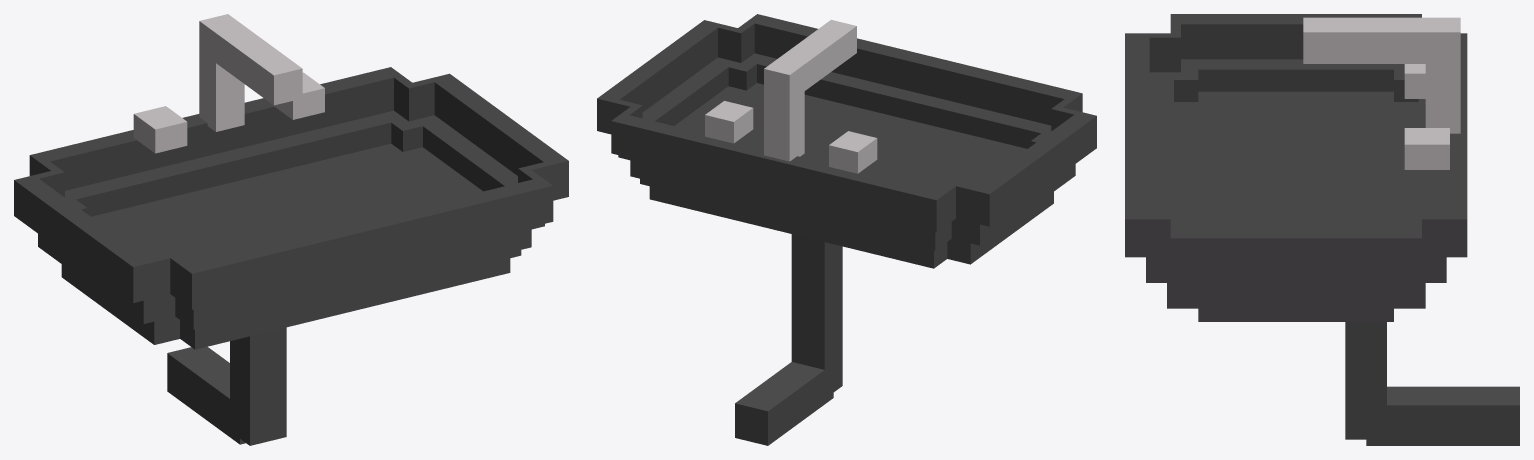
The model's file is kitchen_sink.glb.
3 renders of one model, left to right at view 1: azimuth 30°, elevation 25°; view 2: azimuth 150°, elevation 25°; view 3: azimuth 270°, elevation 25°, orthographic. The views are drawn at different scales.
Parts seen in each view (by area): view 1: kitchen_sink_Sculpted_Basin, kitchen_sink_Drain_Assembly, kitchen_sink_Faucet_Assembly, kitchen_sink_Tap_-1, kitchen_sink; view 2: kitchen_sink_Sculpted_Basin, kitchen_sink_Drain_Assembly, kitchen_sink_Faucet_Assembly, kitchen_sink_Tap_-1, kitchen_sink; view 3: kitchen_sink_Sculpted_Basin, kitchen_sink_Drain_Assembly, kitchen_sink_Faucet_Assembly, kitchen_sink, kitchen_sink_Tap_-1.
Boxes of the visible parts, x1,y1,x2,y2 form: kitchen_sink_Sculpted_Basin: [14, 67, 568, 349]; kitchen_sink_Drain_Assembly: [167, 327, 286, 445]; kitchen_sink_Faucet_Assembly: [199, 14, 302, 131]; kitchen_sink_Tap_-1: [133, 106, 187, 153]; kitchen_sink: [271, 72, 324, 119]; kitchen_sink_Sculpted_Basin: [597, 14, 1096, 268]; kitchen_sink_Drain_Assembly: [735, 234, 842, 445]; kitchen_sink_Faucet_Assembly: [764, 19, 856, 161]; kitchen_sink_Tap_-1: [829, 131, 877, 173]; kitchen_sink: [705, 101, 753, 143]; kitchen_sink_Sculpted_Basin: [1125, 14, 1467, 321]; kitchen_sink_Drain_Assembly: [1345, 322, 1519, 445]; kitchen_sink_Faucet_Assembly: [1303, 17, 1460, 133]; kitchen_sink: [1404, 128, 1449, 169]; kitchen_sink_Tap_-1: [1404, 64, 1425, 98].
Size of the model in its own units: 0.76 by 0.65 by 0.565.
1 material, 1 textured.
